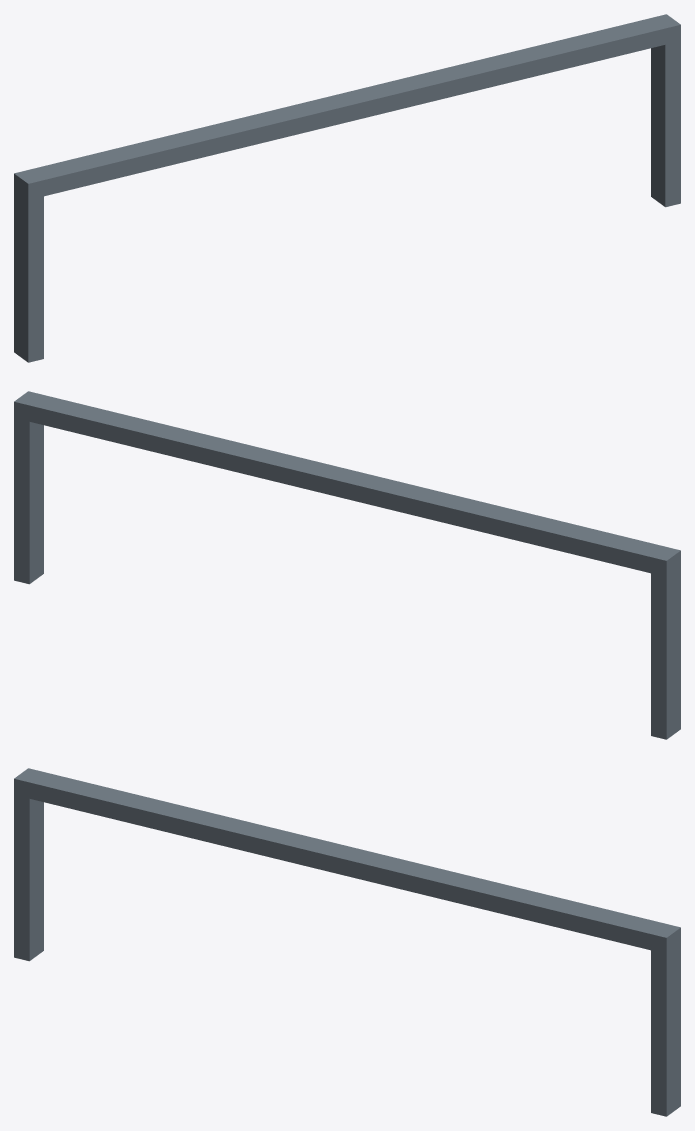
File: Gate20Frame.gltf
The picture shows the model from 3 angles, top to bottom: view 1: azimuth 30°, elevation 25°; view 2: azimuth 150°, elevation 25°; view 3: azimuth 330°, elevation 25°; orthographic projection.
Visible parts, largest first — view 1: GateVisual; view 2: GateVisual; view 3: GateVisual.
Part boxes in pixels (<box>): GateVisual: <box>14,14,680,362</box>; GateVisual: <box>14,391,680,739</box>; GateVisual: <box>14,768,680,1116</box>.
Size of what is drawn, in the model's own units: 21 by 5.5 by 0.8.
